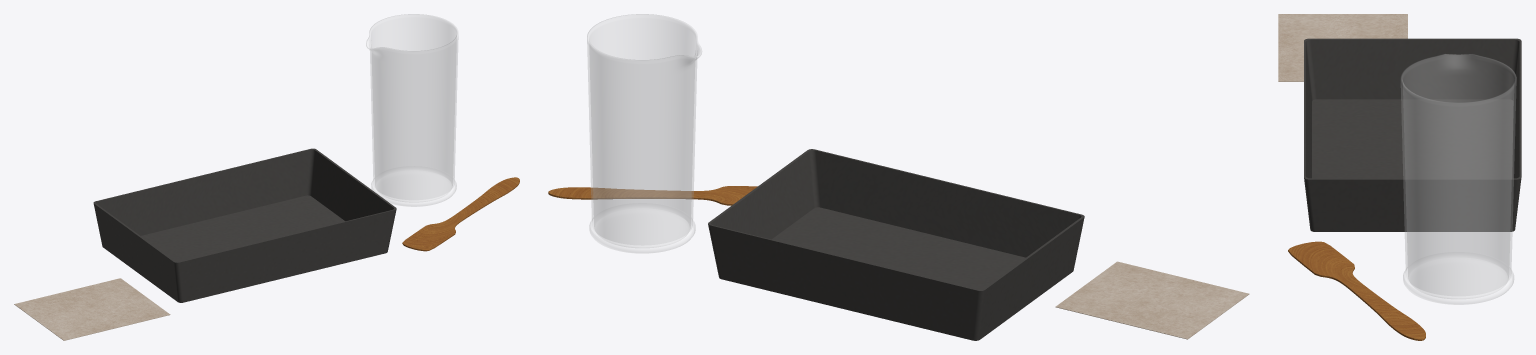
Rendered from AAH_step04_opt.glb.
3 views of the same model, side by side, from view 1: azimuth 30°, elevation 25°; view 2: azimuth 150°, elevation 25°; view 3: azimuth 270°, elevation 25° (orthographic). The views are drawn at different scales.
Parts seen in each view (by area): view 1: tray_uv.001, graduatedCylinder_uv.002, paper.001, woodenSpoon_uv.002; view 2: tray_uv.001, graduatedCylinder_uv.002, paper.001, woodenSpoon_uv.002; view 3: tray_uv.001, graduatedCylinder_uv.002, paper.001, woodenSpoon_uv.002.
Part boxes in pixels (x1,y1,x2,y2): tray_uv.001: (93, 148, 396, 302); graduatedCylinder_uv.002: (366, 14, 458, 206); paper.001: (14, 278, 170, 340); woodenSpoon_uv.002: (402, 177, 519, 251); tray_uv.001: (708, 149, 1084, 340); graduatedCylinder_uv.002: (587, 14, 701, 253); paper.001: (1055, 261, 1249, 339); woodenSpoon_uv.002: (548, 186, 757, 205); tray_uv.001: (1304, 38, 1521, 231); graduatedCylinder_uv.002: (1401, 54, 1516, 304); paper.001: (1278, 14, 1407, 81); woodenSpoon_uv.002: (1288, 241, 1425, 340).
Bounding box in the file's own units: 34.5 × 10.22 × 10.97.
Materials: 4 (3 with a texture image).
